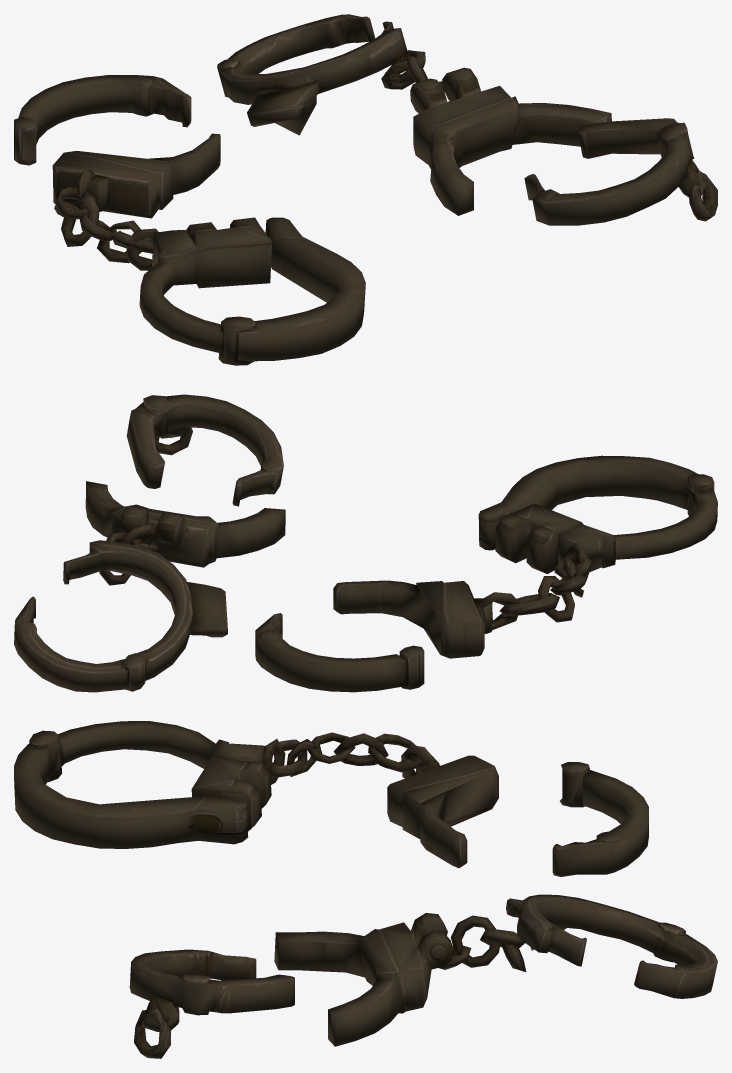
The model's file is Handcuffs.fbx.
3 views of the same model, one above another, from view 1: azimuth 30°, elevation 25°; view 2: azimuth 150°, elevation 25°; view 3: azimuth 270°, elevation 25° (orthographic). The views are drawn at different scales.
Visible parts, largest first — view 1: tripo_node_4844e911-7c46-496e-afb6-b270764b4518.001, tripo_node_4844e911-7c46-496e-afb6-b270764b4518; view 2: tripo_node_4844e911-7c46-496e-afb6-b270764b4518.001, tripo_node_4844e911-7c46-496e-afb6-b270764b4518; view 3: tripo_node_4844e911-7c46-496e-afb6-b270764b4518.001, tripo_node_4844e911-7c46-496e-afb6-b270764b4518.
Boxes of the visible parts, box(x1,y1,x2,y2) form: tripo_node_4844e911-7c46-496e-afb6-b270764b4518.001: box(14, 75, 365, 365); tripo_node_4844e911-7c46-496e-afb6-b270764b4518: box(217, 14, 717, 225); tripo_node_4844e911-7c46-496e-afb6-b270764b4518.001: box(255, 455, 717, 692); tripo_node_4844e911-7c46-496e-afb6-b270764b4518: box(14, 394, 285, 692); tripo_node_4844e911-7c46-496e-afb6-b270764b4518.001: box(14, 721, 648, 876); tripo_node_4844e911-7c46-496e-afb6-b270764b4518: box(129, 894, 717, 1058).
Size of the model in its own units: 96.27 by 14.06 by 99.8.
Materials: 1 (1 with a texture image).
